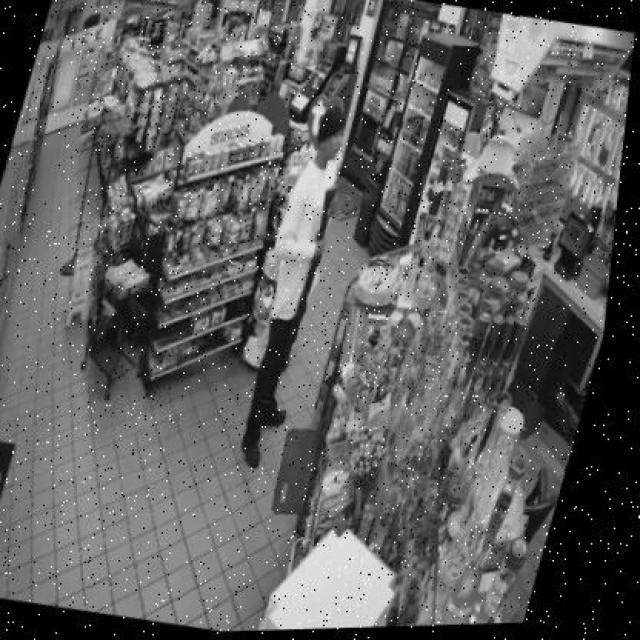weapon: (275, 188, 342, 382)
